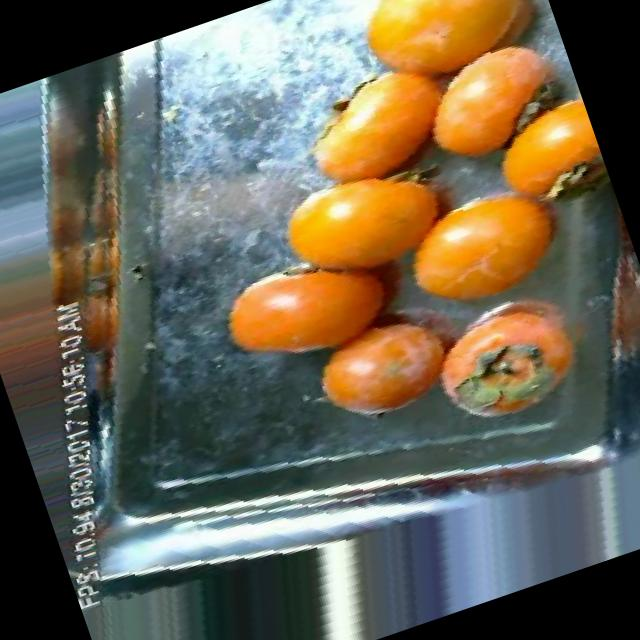Fruit: (370, 158, 602, 334), (289, 282, 486, 448), (196, 232, 382, 398), (464, 82, 613, 226)
